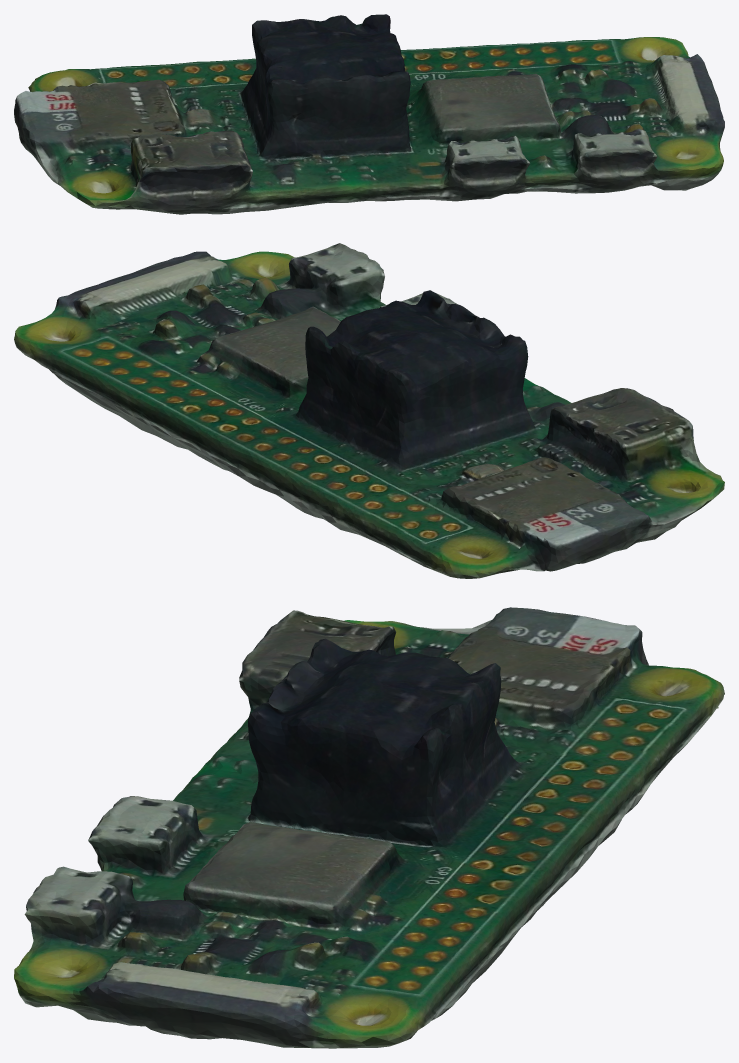
Rendered from june.glb.
3 views of the same model, one above another, from view 1: azimuth 30°, elevation 25°; view 2: azimuth 150°, elevation 25°; view 3: azimuth 270°, elevation 25° (orthographic). The views are drawn at different scales.
Bounding box in the file's own units: 0.4559 × 0.083 × 0.3296.
Materials: 1 (1 with a texture image).
